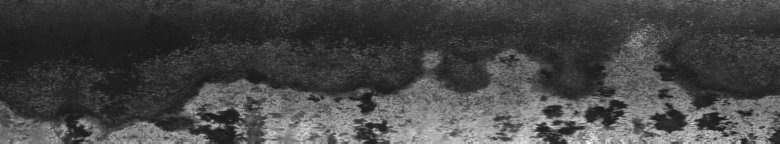kb: (28, 14, 776, 136)
